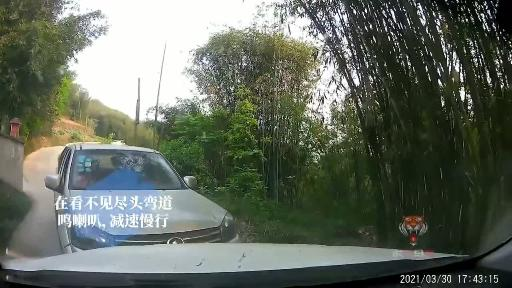CAR: (49, 137, 241, 248)
